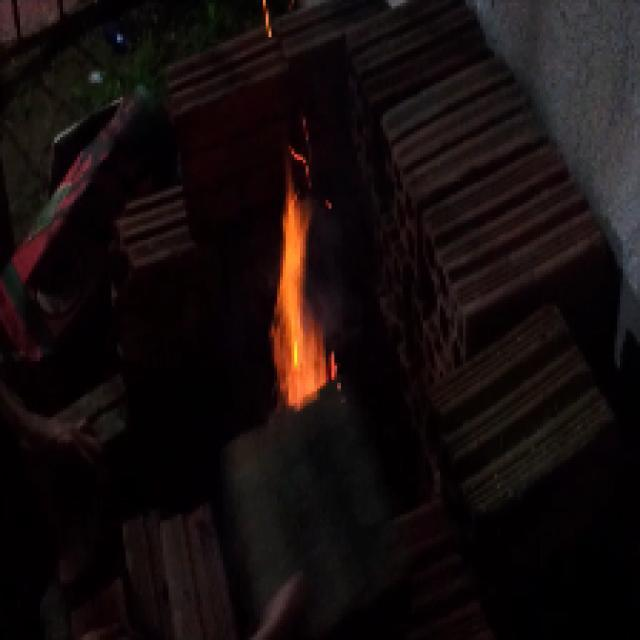Fire: (267, 198, 335, 394)
